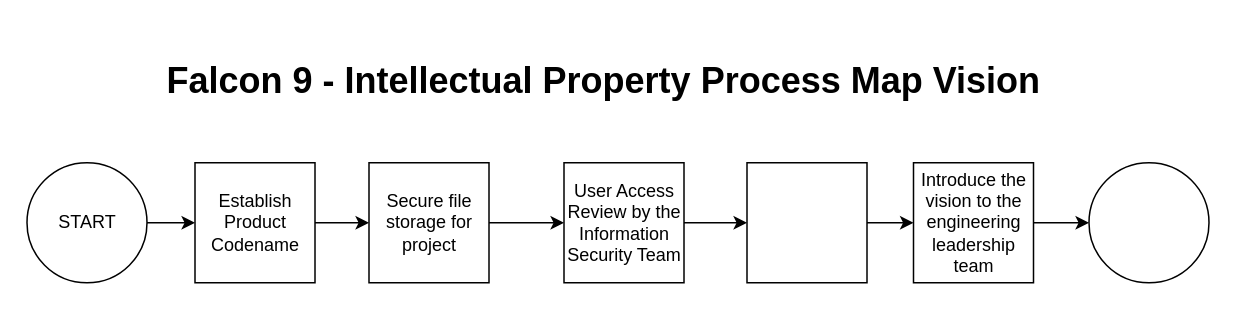
Some shapes in this 1235 by 309 pixel diagram are drawn without their labels. Each missing label, with the centre of its shape:
"END" goes at point (1148, 222).
"Leadership team will document the vision of the project" goes at point (806, 222).
